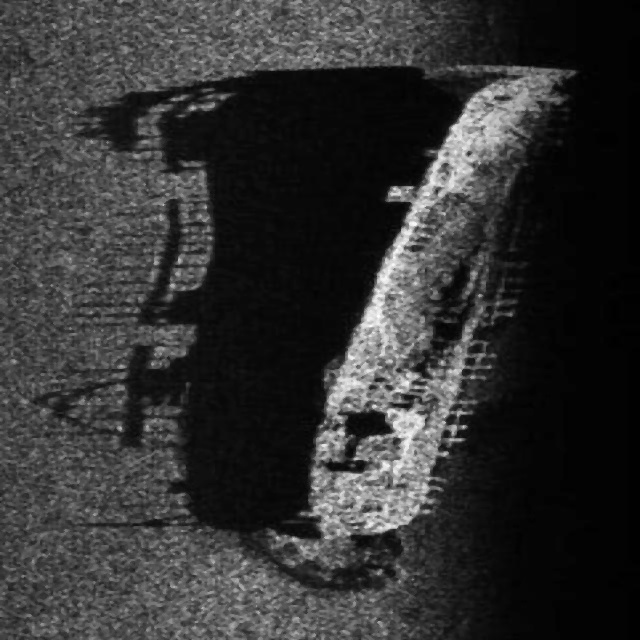Ship: (280, 52, 612, 562)
